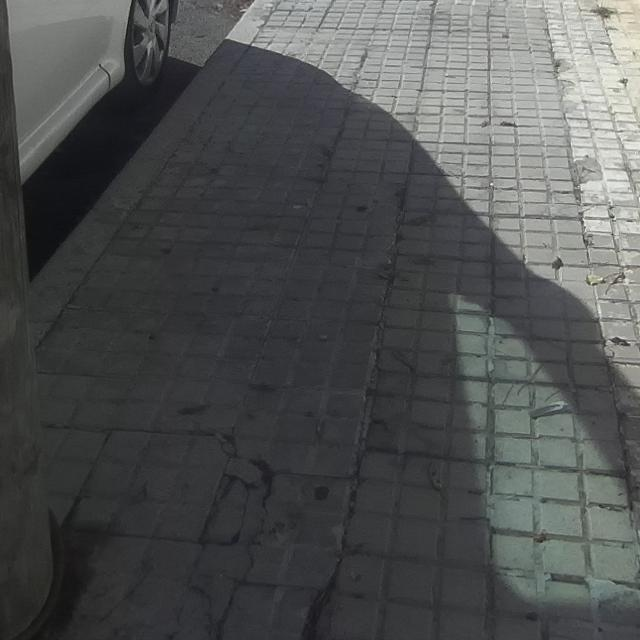calcada_quebrada: (216, 545, 255, 640), (221, 474, 253, 542), (183, 582, 215, 640), (212, 431, 240, 462)
